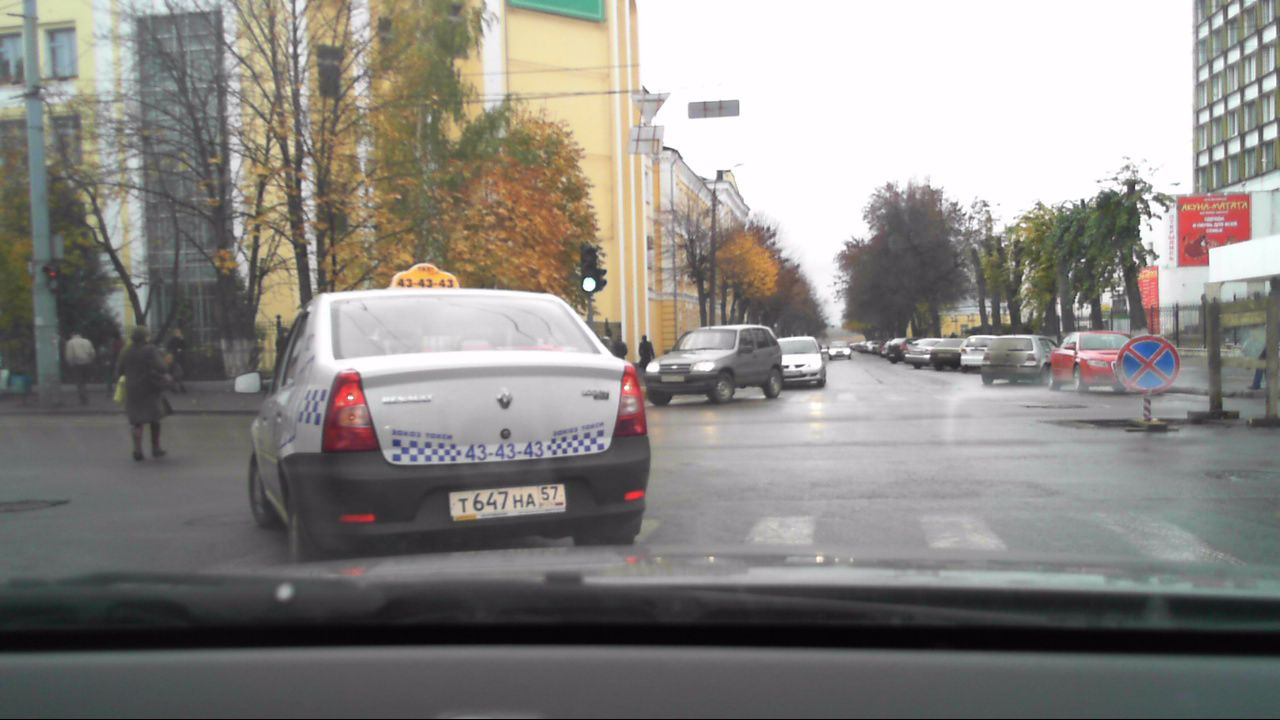No Parking: (1114, 332, 1180, 393)
